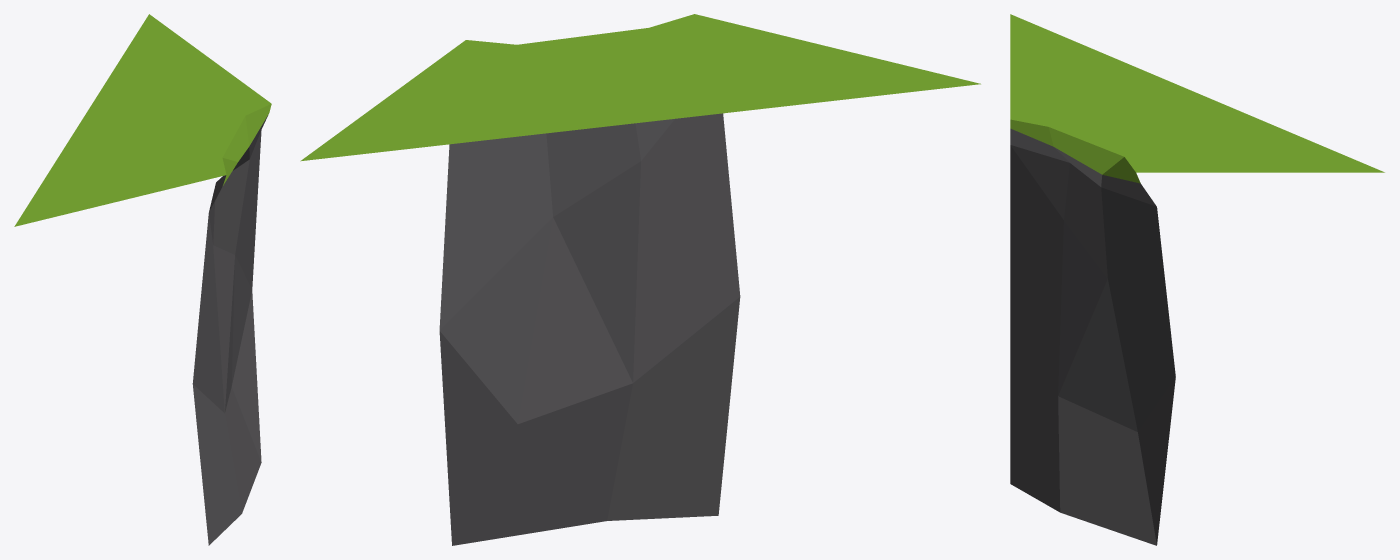
Rendered from mesh_cliff_wall_corner_inverted_connector.fbx.
The picture shows the model from 3 angles, left to right: view 1: azimuth 30°, elevation 25°; view 2: azimuth 150°, elevation 25°; view 3: azimuth 270°, elevation 25°; orthographic projection. The views are drawn at different scales.
Visible parts, largest first — view 1: mesh_cliff_wall_corner_inverted_connector; view 2: mesh_cliff_wall_corner_inverted_connector; view 3: mesh_cliff_wall_corner_inverted_connector.
Boxes of the visible parts, bbox=[...] form: mesh_cliff_wall_corner_inverted_connector: bbox=[14, 14, 271, 545]; mesh_cliff_wall_corner_inverted_connector: bbox=[300, 14, 980, 545]; mesh_cliff_wall_corner_inverted_connector: bbox=[1010, 14, 1384, 545].
Bounding box in the file's own units: 200 × 219 × 200.
